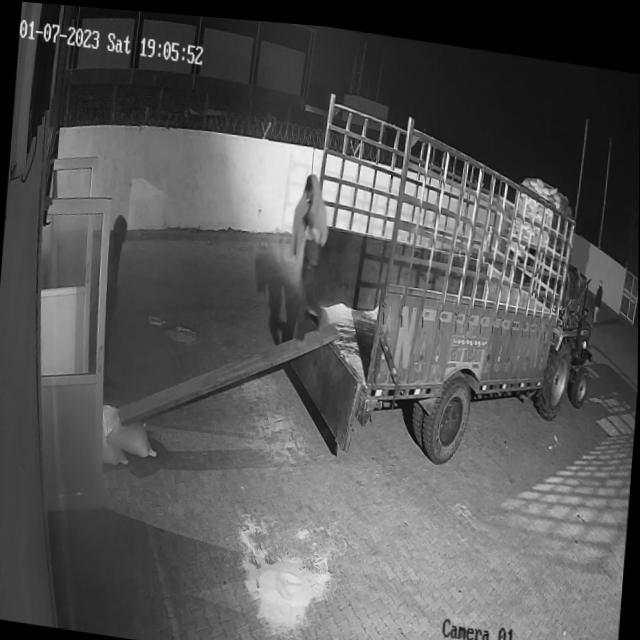sack: (99, 401, 159, 456)
